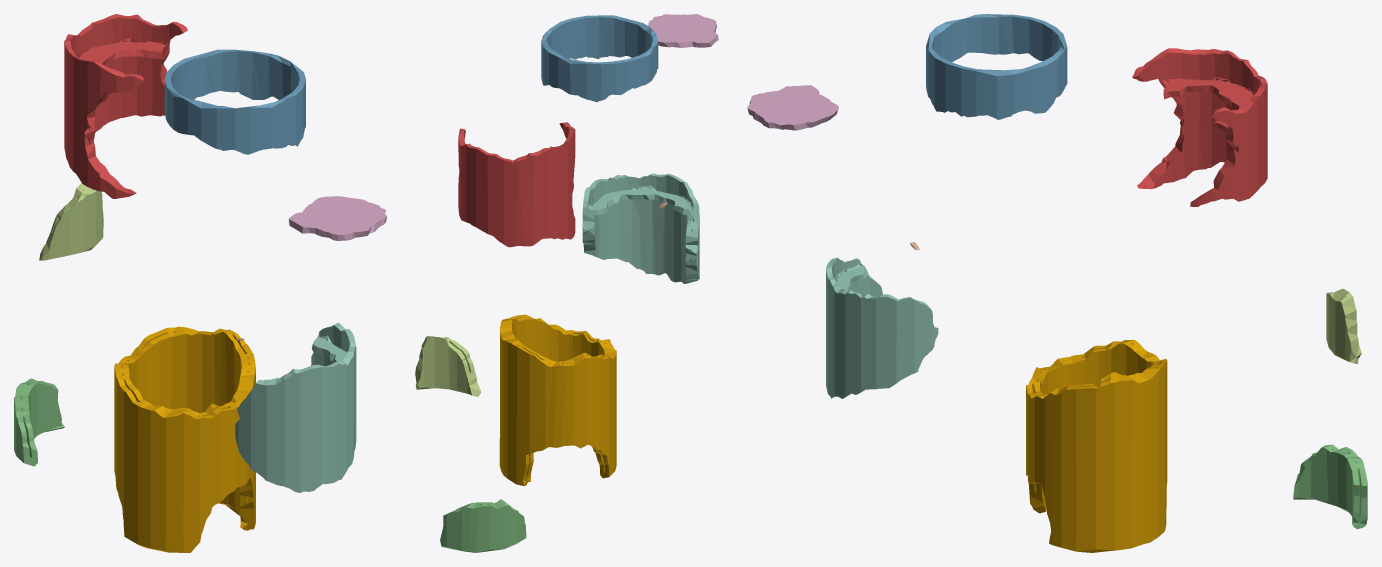
File: mode_16_8pcs_transformed.glb
The picture shows the model from 3 angles, left to right: view 1: azimuth 30°, elevation 25°; view 2: azimuth 150°, elevation 25°; view 3: azimuth 270°, elevation 25°; orthographic projection. The views are drawn at different scales.
Visible parts, largest first — view 1: piece_0.obj, piece_4.obj, piece_1.obj, piece_2.obj, piece_6.obj, piece_5.obj, piece_3.obj; view 2: piece_0.obj, piece_1.obj, piece_4.obj, piece_2.obj, piece_3.obj, piece_5.obj, piece_6.obj; view 3: piece_0.obj, piece_1.obj, piece_2.obj, piece_4.obj, piece_3.obj, piece_6.obj, piece_5.obj.
Part boxes in pixels (<box>): piece_0.obj: <box>114,326,255,552</box>; piece_4.obj: <box>235,323,356,492</box>; piece_1.obj: <box>64,14,187,198</box>; piece_2.obj: <box>164,49,305,154</box>; piece_6.obj: <box>288,196,386,240</box>; piece_5.obj: <box>39,183,103,260</box>; piece_3.obj: <box>14,378,64,466</box>; piece_0.obj: <box>499,314,616,486</box>; piece_1.obj: <box>458,122,575,247</box>; piece_4.obj: <box>582,173,699,283</box>; piece_2.obj: <box>541,15,658,102</box>; piece_3.obj: <box>440,499,526,552</box>; piece_5.obj: <box>415,336,481,396</box>; piece_6.obj: <box>648,14,718,47</box>; piece_0.obj: <box>1026,340,1167,552</box>; piece_1.obj: <box>1132,48,1267,206</box>; piece_2.obj: <box>926,14,1067,119</box>; piece_4.obj: <box>826,257,938,398</box>; piece_3.obj: <box>1293,444,1367,529</box>; piece_6.obj: <box>747,85,838,130</box>; piece_5.obj: <box>1326,288,1361,363</box>.
Bounding box in the file's own units: 0.424 × 1.6 × 1.86.
